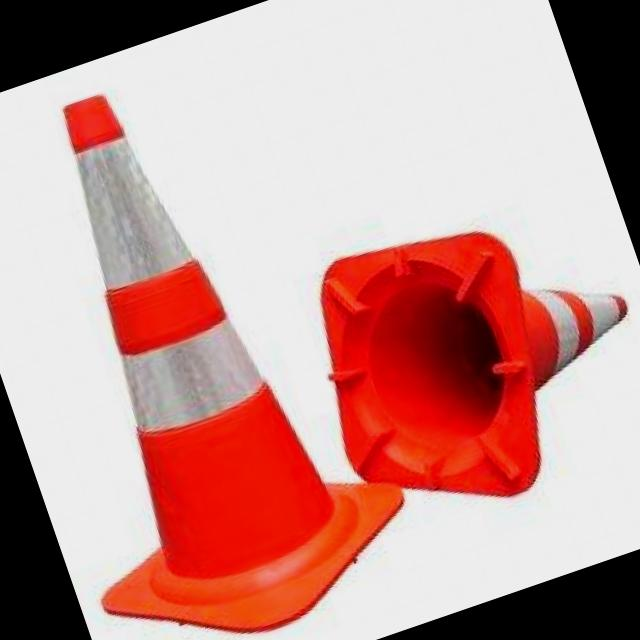cone: (0, 42, 411, 640), (276, 105, 640, 541)
